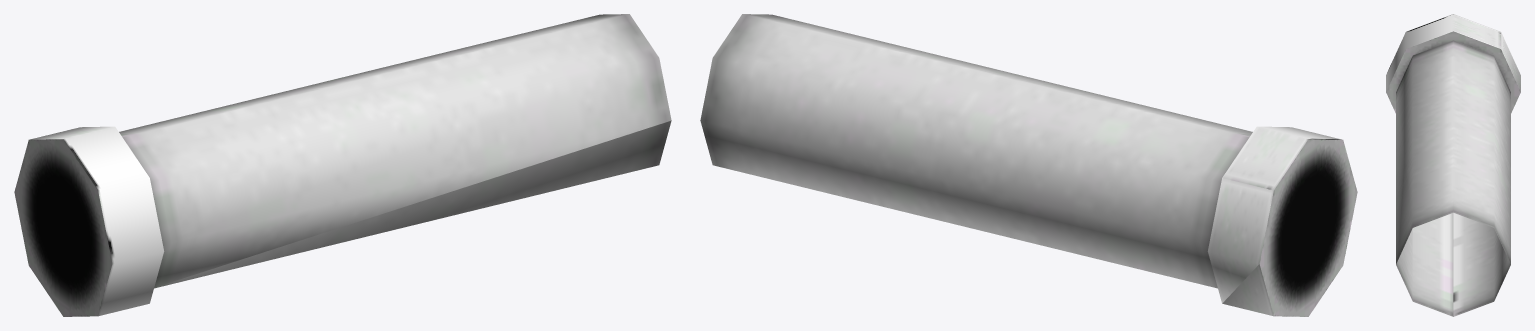
The model's file is Lower_Pipe_64.FBX.
3 renders of one model, left to right at view 1: azimuth 30°, elevation 25°; view 2: azimuth 150°, elevation 25°; view 3: azimuth 270°, elevation 25°, orthographic. The views are drawn at different scales.
Parts seen in each view (by area): view 1: Lower_Pipe_Big_64; view 2: Lower_Pipe_Big_64; view 3: Lower_Pipe_Big_64.
Part boxes in pixels (bbox=[...]): Lower_Pipe_Big_64: bbox=[14, 14, 671, 316]; Lower_Pipe_Big_64: bbox=[700, 14, 1357, 316]; Lower_Pipe_Big_64: bbox=[1386, 14, 1520, 316].
Bounding box in the file's own units: 64 × 19.2 × 19.2.
1 material, 1 textured.
